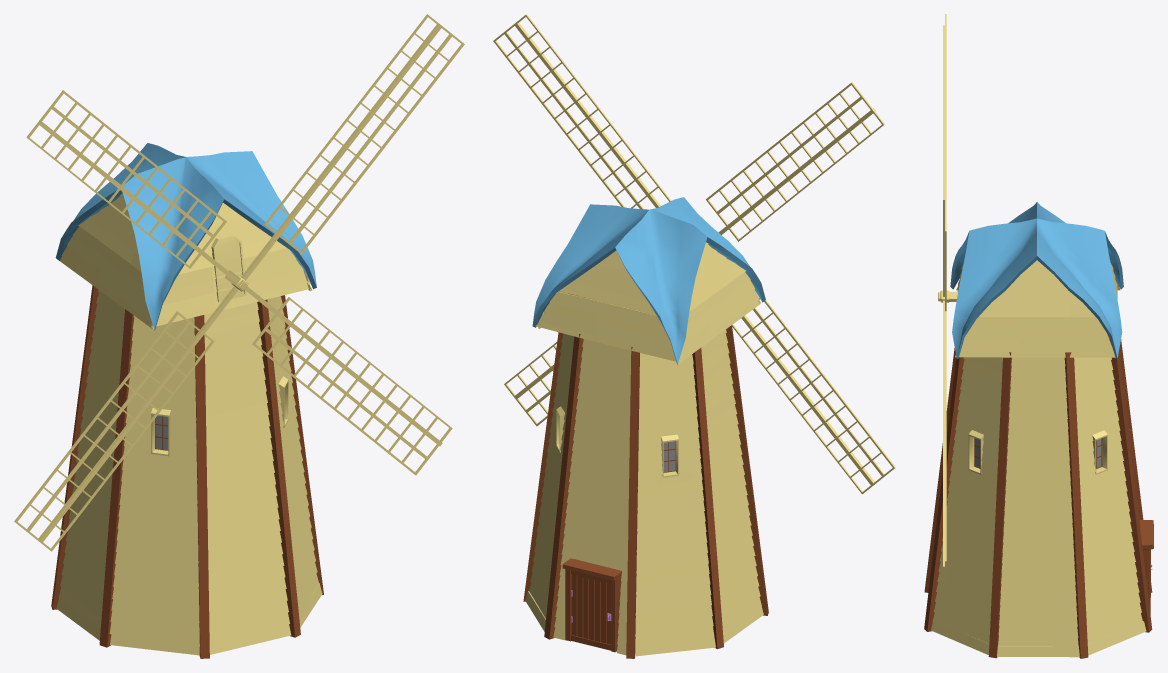
File: fengche.FBX
3 renders of one model, left to right at view 1: azimuth 30°, elevation 25°; view 2: azimuth 150°, elevation 25°; view 3: azimuth 270°, elevation 25°, orthographic. The views are drawn at different scales.
Visible parts, largest first — view 1: Windmill_WoodDark, Windmill_RoofTiles, Windmill_Wood_Beams; view 2: Windmill_WoodDark (×2), Windmill_RoofTiles, Windmill_Wood_Beams; view 3: Windmill_WoodDark (×2), Windmill_RoofTiles, Windmill_Wood_Beams.
Part boxes in pixels (x1,y1,x2,y2): Windmill_WoodDark: (14,14,464,655); Windmill_RoofTiles: (55,143,316,330); Windmill_Wood_Beams: (51,285,323,658); Windmill_WoodDark (×2): (493,14,895,656); Windmill_RoofTiles: (532,197,765,364); Windmill_Wood_Beams: (523,293,768,658); Windmill_WoodDark (×2): (931,14,1153,657); Windmill_RoofTiles: (950,202,1123,358); Windmill_Wood_Beams: (924,334,1152,658).
Bounding box in the file's own units: 10.86 × 13.65 × 5.46.
